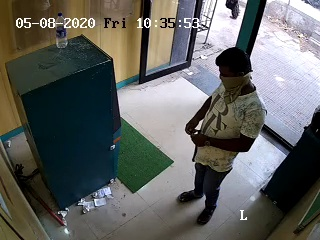open: (136, 3, 258, 105)
